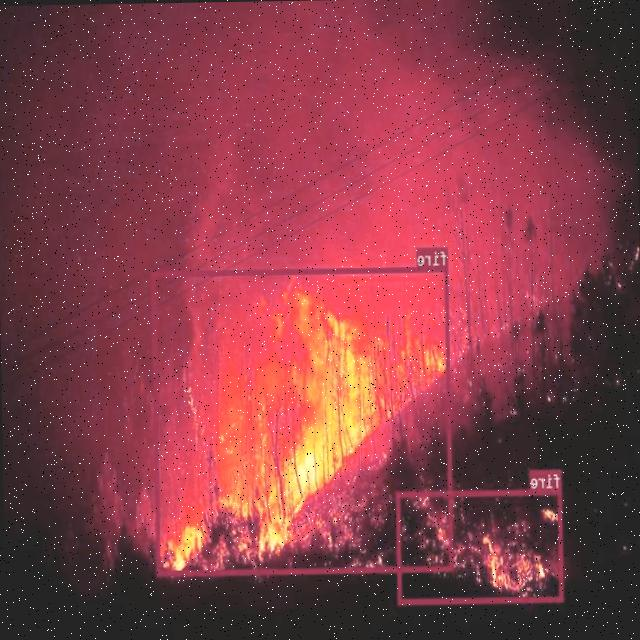fire: (152, 266, 453, 576), (397, 488, 564, 602)
